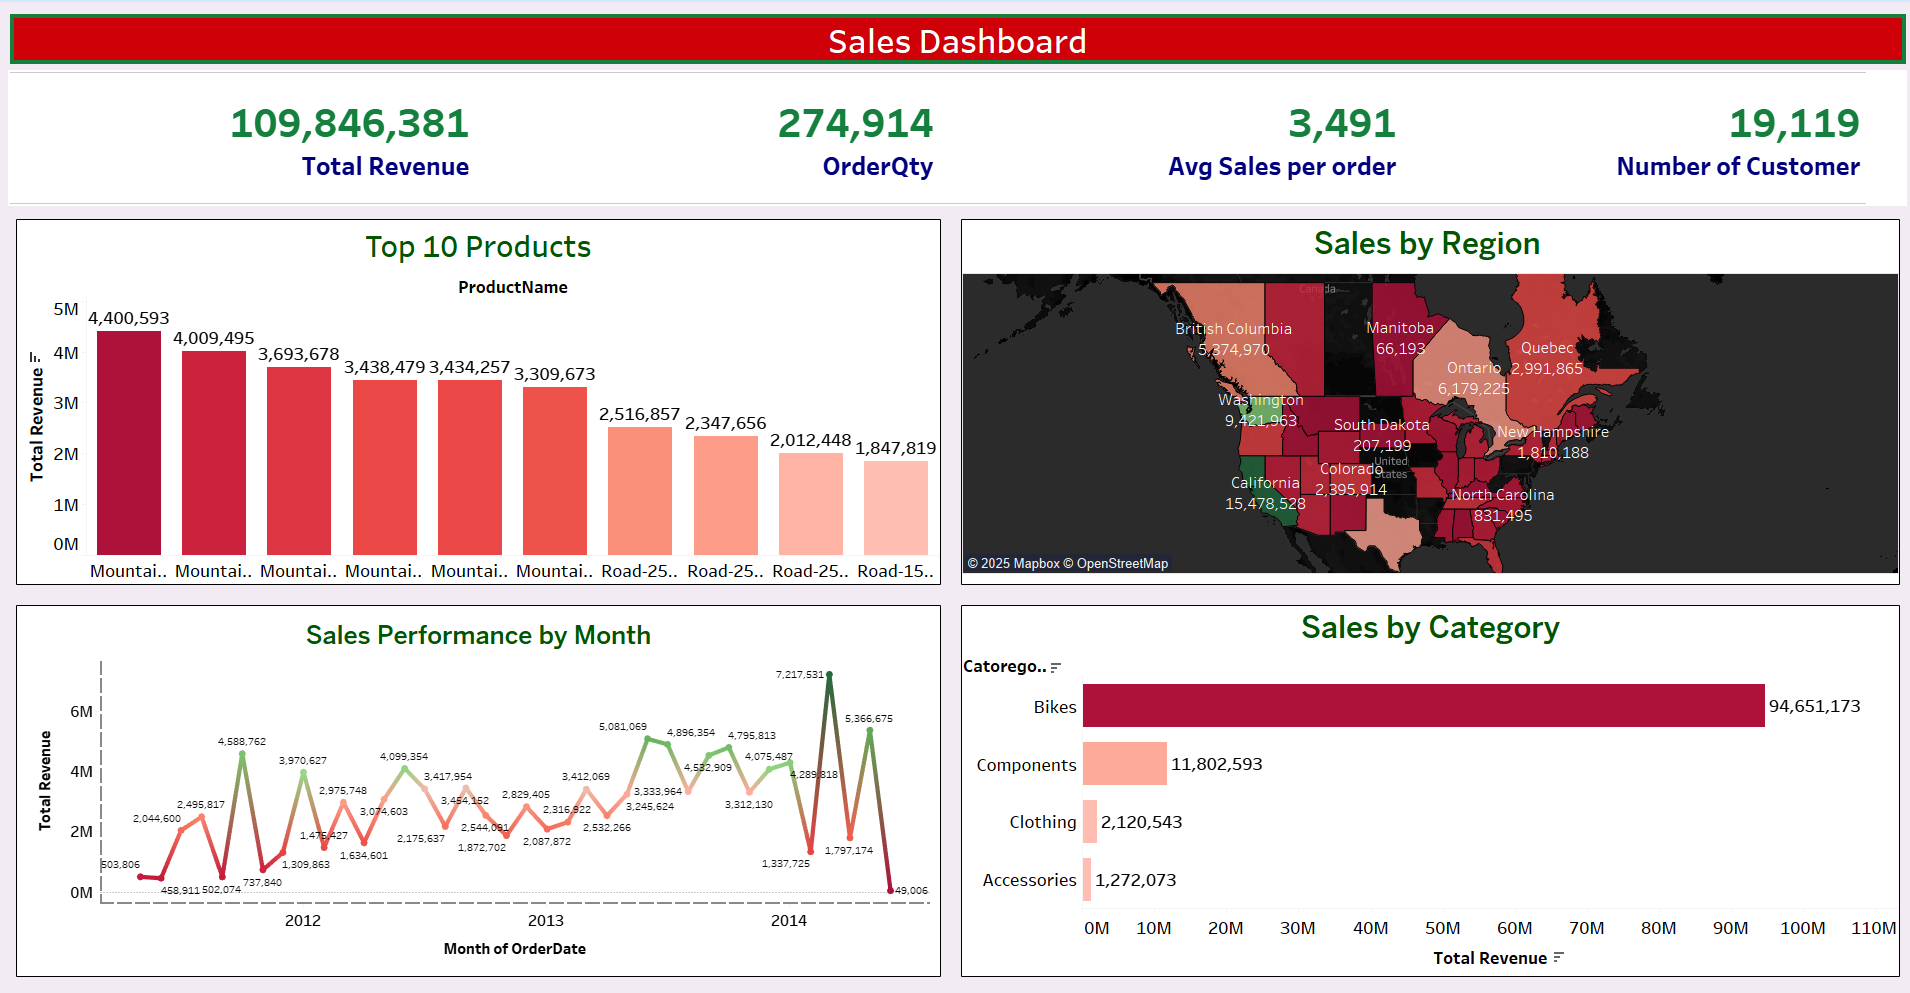

This screenshot's page, from the dashboard's own definition file:
{"tool":"tableau","page":{"name":"Dashboard 1","canvas":[1000,1000],"units":"permille","ordinal":0},"visuals":[{"type":"title","box":[4.9,10.7,990.2,58.4]},{"type":"worksheet","title":"KPI's","mark":"Automatic","box":[4.9,69.1,990.2,140.6]},{"type":"worksheet","title":"Top 10 pro","mark":"Automatic","rows":["LineTotal  "],"cols":["ProductName  "],"box":[4.9,209.7,491.7,386.8]},{"type":"worksheet","title":"Region","mark":"Automatic","box":[496.6,209.7,498.5,386.8]},{"type":"worksheet","title":"Months sales","mark":"Automatic","rows":["LineTotal  "],"cols":["OrderDate  "],"box":[4.9,596.5,491.7,392.8]},{"type":"worksheet","title":"Sales by Category","mark":"Automatic","rows":["Catoregory"],"cols":["LineTotal  "],"box":[496.6,596.5,498.5,392.8]}]}

Visuals, with their boxes on the dashboard's canvas, which has no fixed pixel size, in thousandths of its width and height (x1, y1, x2, y2). These are canvas units, not pixel positions in the 1910x993 screenshot, which may show the page scaled, cropped or inside an application window:
title: 5,11,995,69
"KPI's" worksheet: 5,69,995,210
"Top 10 pro" worksheet: 5,210,497,596
"Region" worksheet: 497,210,995,596
"Months sales" worksheet: 5,596,497,989
"Sales by Category" worksheet: 497,596,995,989
